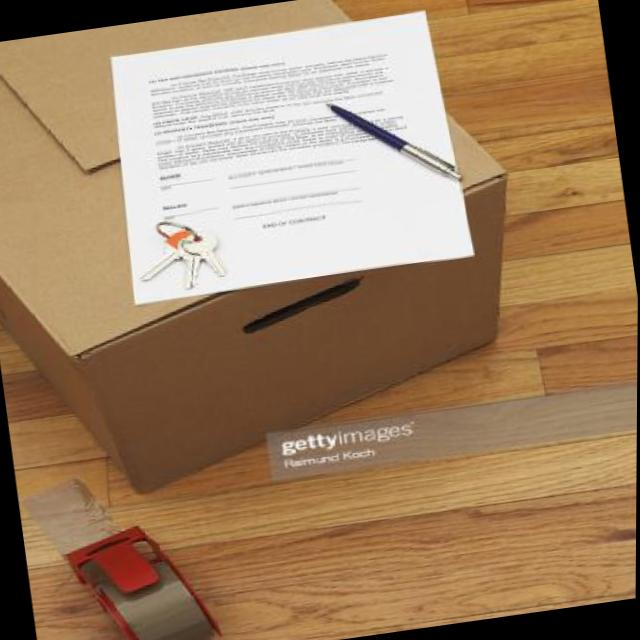box: (0, 0, 560, 525)
